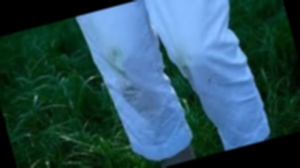earth: (174, 50, 193, 74), (109, 46, 126, 72)
